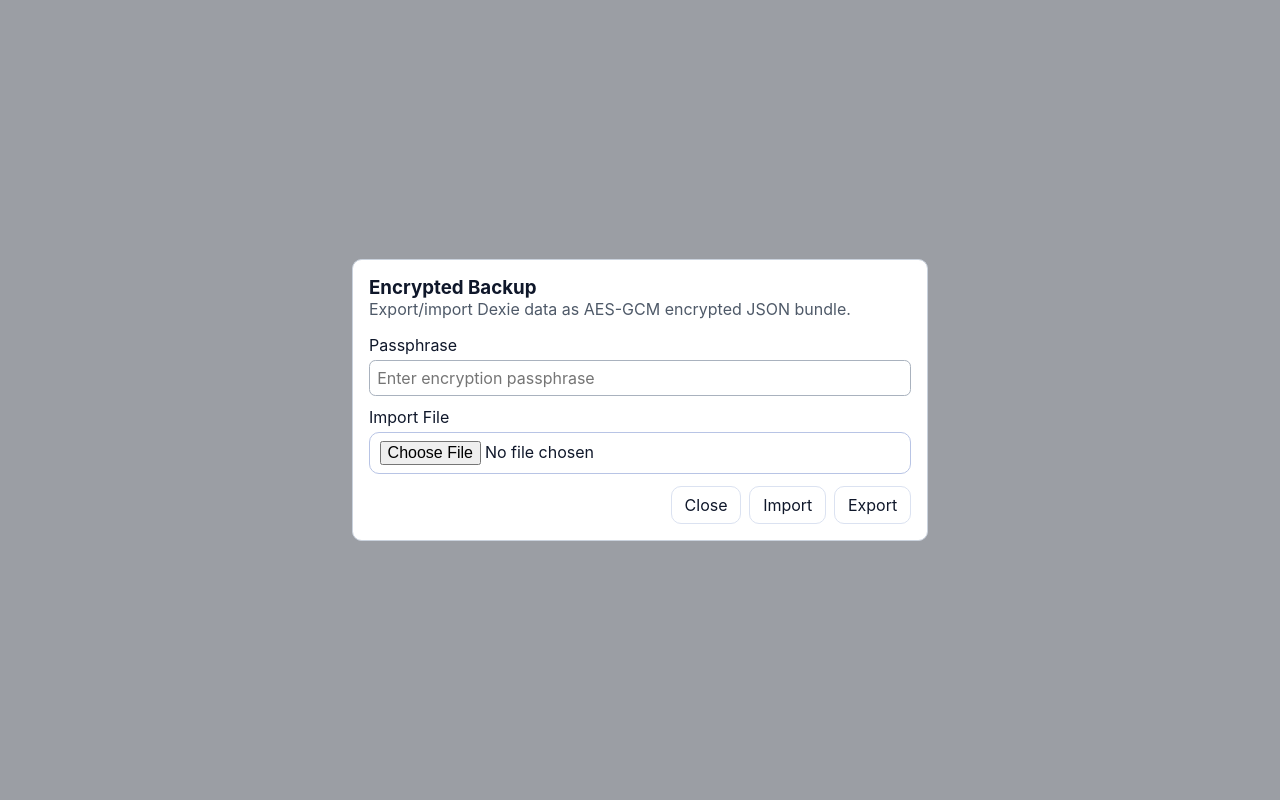
Test: <ExportModal /> › Import requires a selected file before running
Type "pw" into the password field with placeholder "Enter encryption passphrase".
click(640, 378); type("pw")  # box [369,360,911,396]
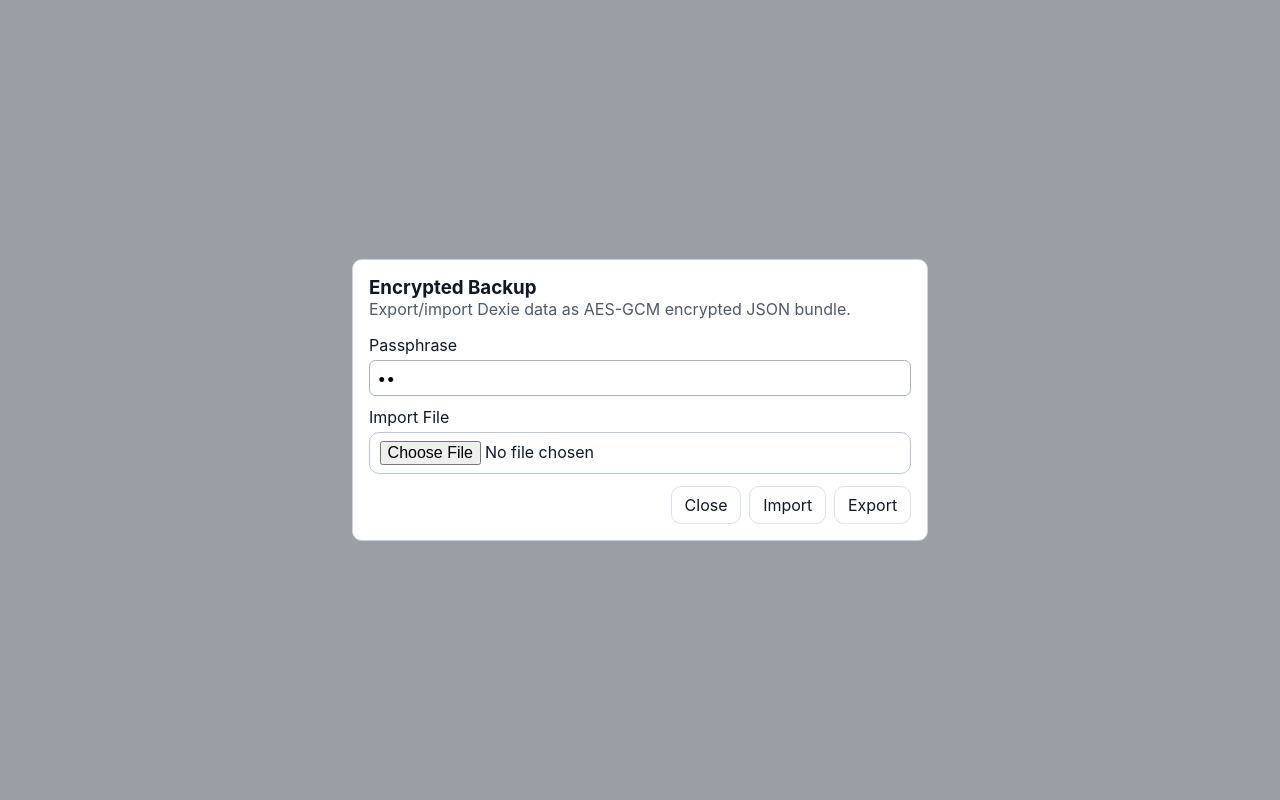
Click the button "Import".
click(788, 506)  # box [749,486,826,524]
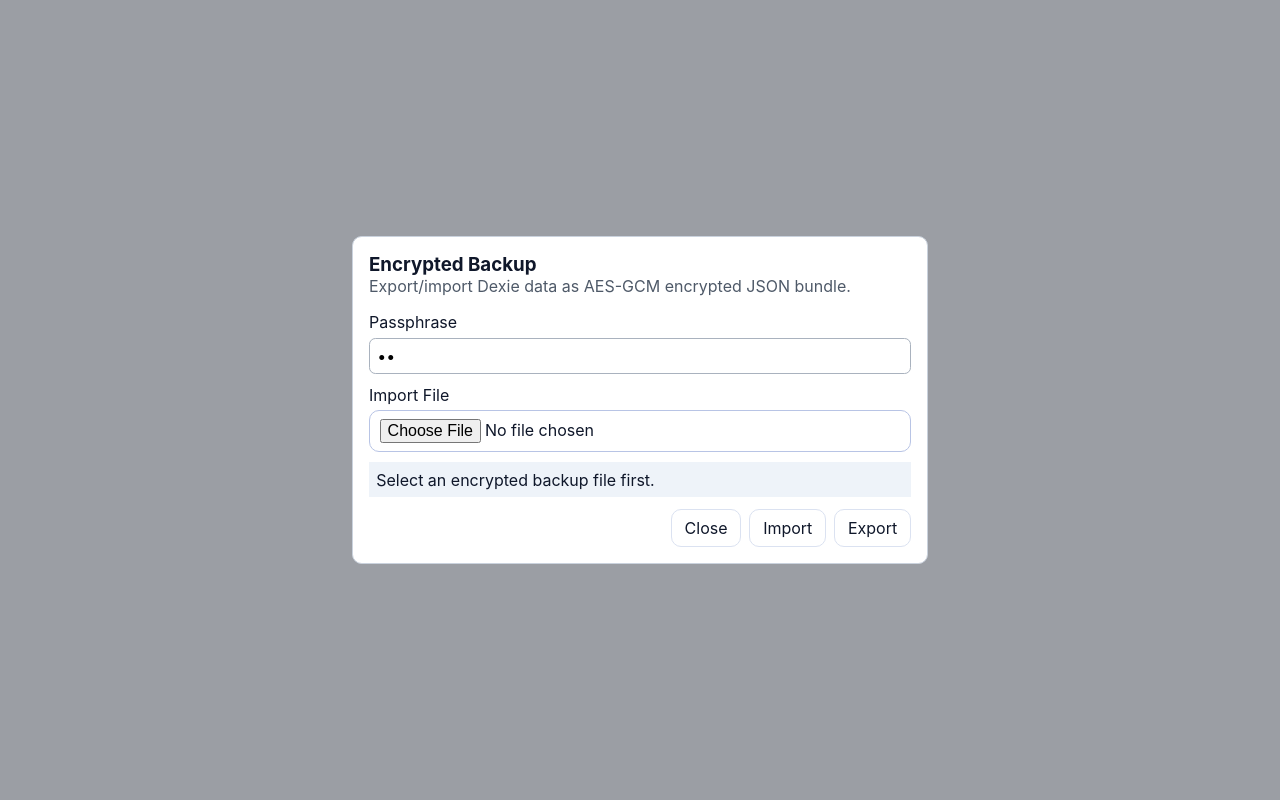
Check: the text "Select an encrypted backup file first." is shown, box [369,462,911,497]
